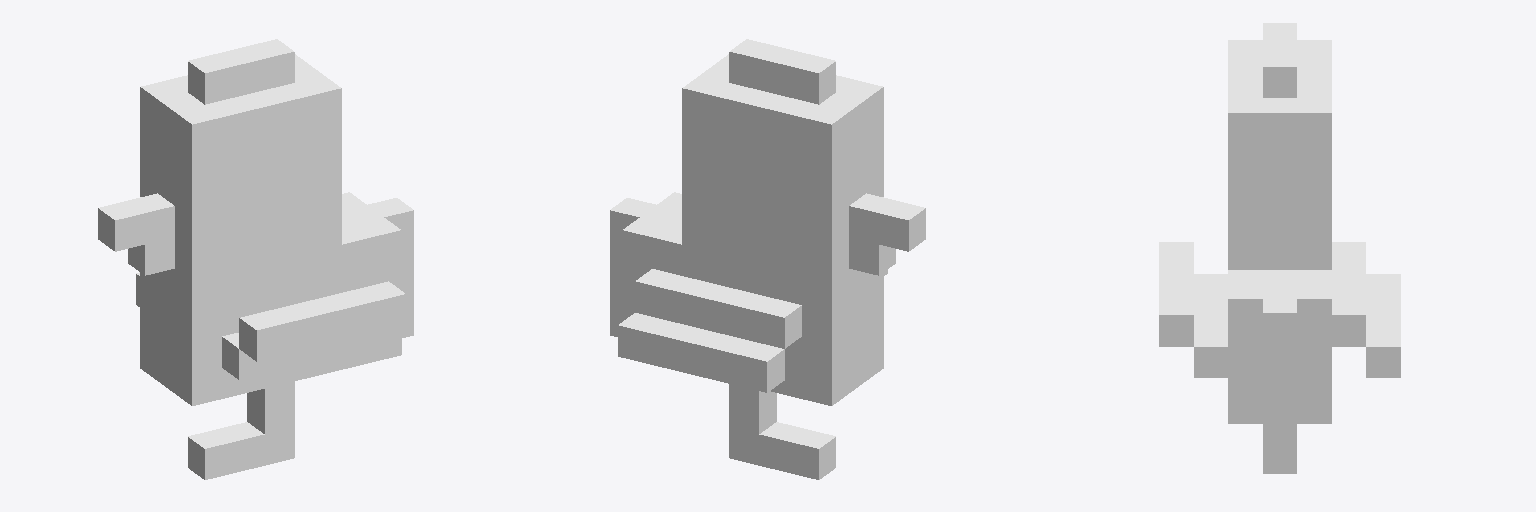
File: squashed.obj
3 renders of one model, left to right at view 1: azimuth 30°, elevation 25°; view 2: azimuth 150°, elevation 25°; view 3: azimuth 270°, elevation 25°, orthographic.
Visible parts, largest first — view 1: object 1; view 2: object 1; view 3: object 1.
Boxes of the visible parts, box(x1,y1,x2,y2) form: object 1: box(98, 39, 413, 479); object 1: box(610, 39, 925, 479); object 1: box(1159, 23, 1400, 473).
Size of the model in its own units: 1 by 1.3 by 0.7.